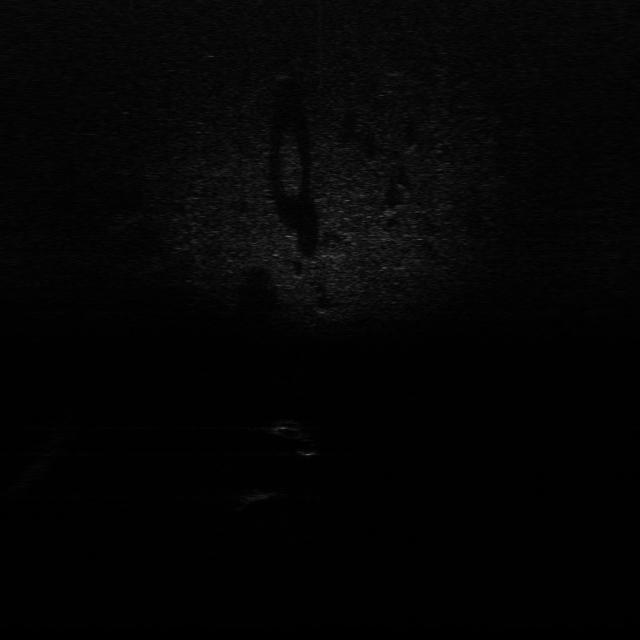ball: (293, 440, 323, 460)
square cage: (242, 486, 292, 505)
tyre: (266, 416, 308, 440)
